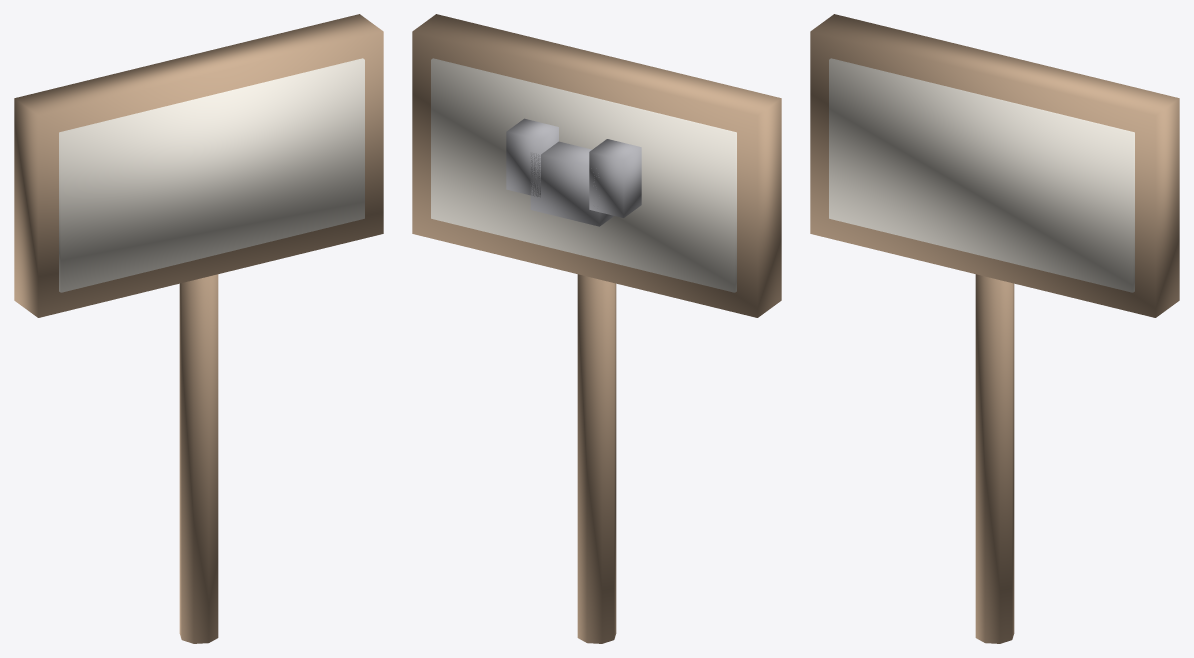
Rendered from elephant_sign.glb.
The picture shows the model from 3 angles, left to right: view 1: azimuth 30°, elevation 25°; view 2: azimuth 150°, elevation 25°; view 3: azimuth 330°, elevation 25°; orthographic projection.
Parts seen in each view (by area): view 1: board_face, board, post; view 2: board_face, board, post, emblem_head, emblem_ear_l, emblem_ear_r; view 3: board_face, board, post.
Boxes of the visible parts, box(x1,y1,x2,y2) form: board_face: box(59, 58, 364, 292); board: box(14, 14, 383, 317); post: box(179, 274, 218, 643); board_face: box(431, 58, 736, 292); board: box(412, 14, 781, 317); post: box(577, 274, 616, 643); emblem_head: box(530, 141, 613, 226); emblem_ear_l: box(589, 139, 641, 217); emblem_ear_r: box(506, 118, 558, 197); board_face: box(829, 58, 1134, 292); board: box(810, 14, 1179, 317); post: box(975, 274, 1014, 643).
Size of the model in its own units: 0.5 by 0.79 by 0.115.
